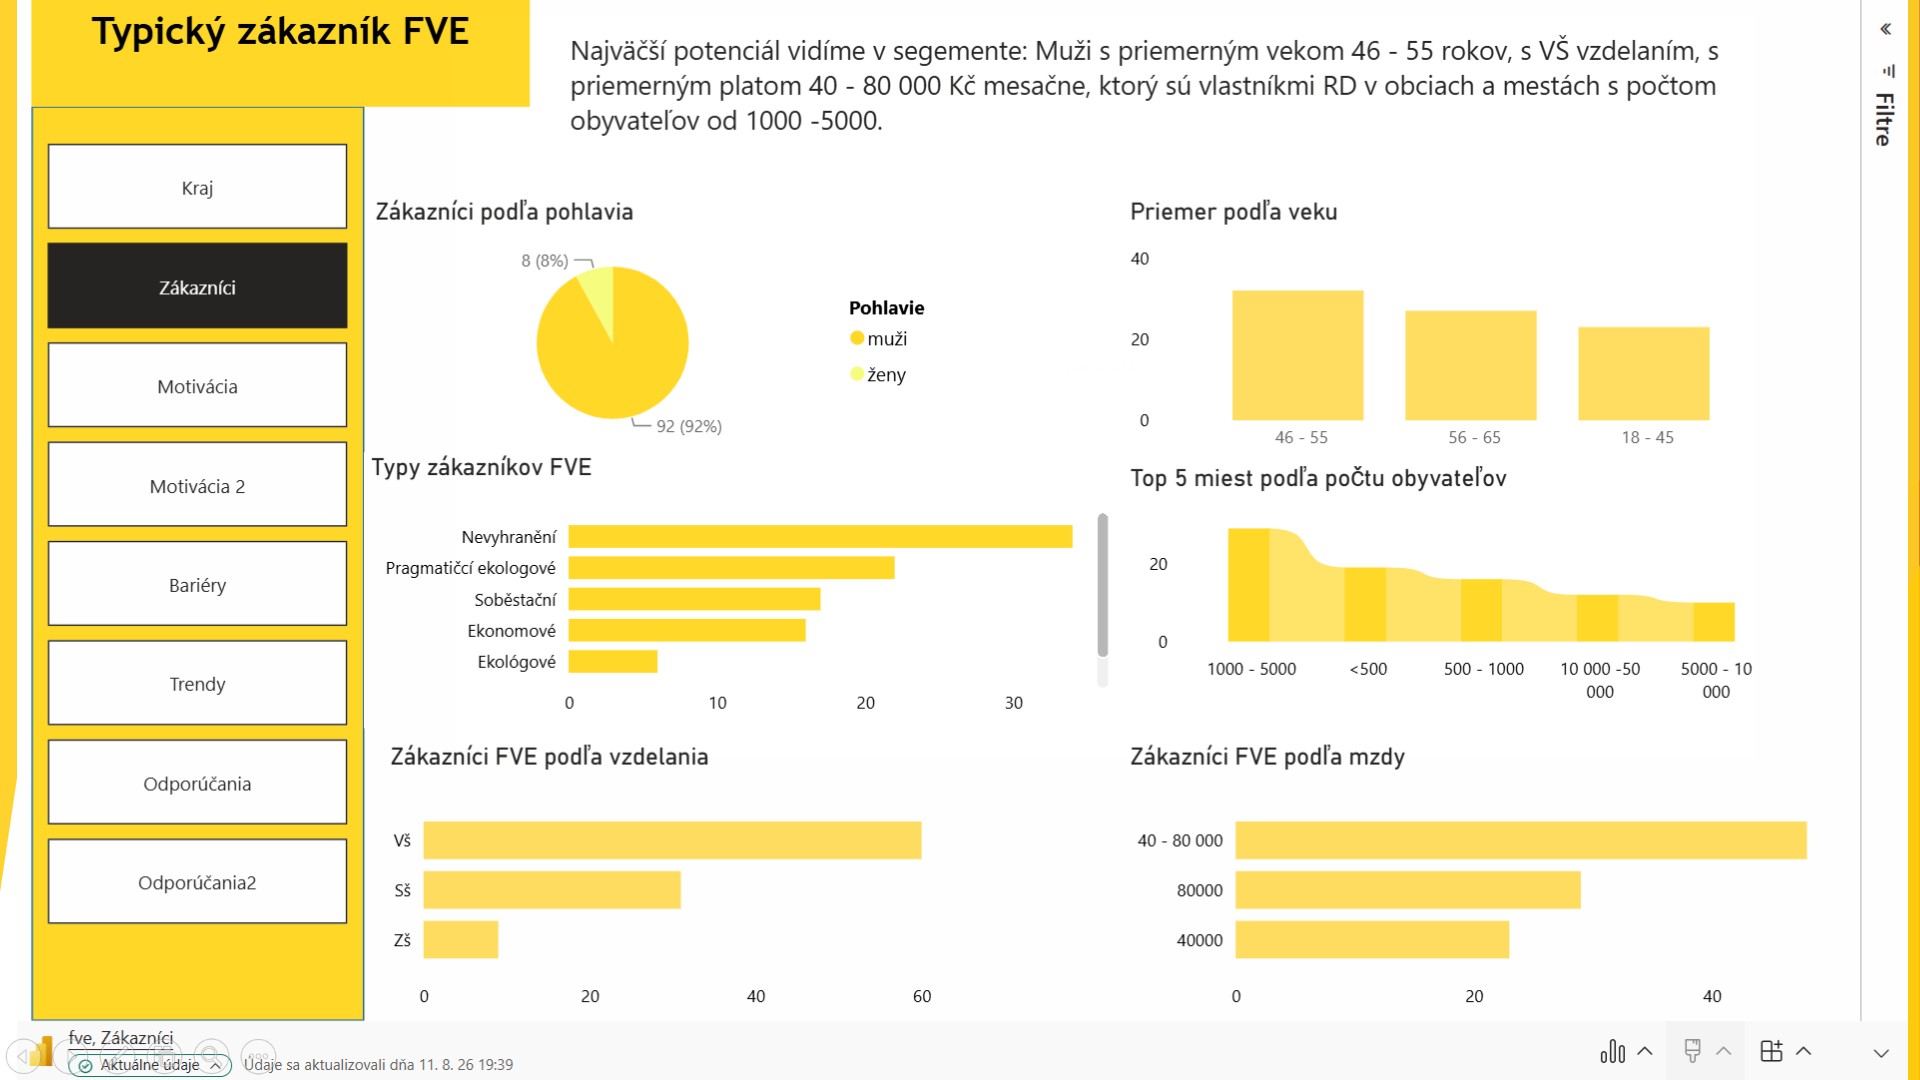

Layout of this report page (visuals, bound fields, positions):
{"tool":"powerbi","page":{"name":"Zákazníci","canvas":[1280,720],"ordinal":1},"visuals":[{"type":"shape","box":[0,75.1,234.6,644.9],"z":0},{"type":"textbox","box":[0,0,351.3,75.5],"z":1000},{"type":"pieChart","title":"Zákazníci podľa pohlavia","fields":{"Category":["Vzorka.Pohlavie"],"Y":["Sum(Vzorka.Počet %)"]},"box":[237.4,138.6,415.8,177],"z":6000},{"type":"columnChart","title":"Priemer podľa veku","fields":{"Category":["Vek.Vek"],"Y":["Avg(Vek.Počet %)"]},"box":[769.8,138.6,472,188],"z":7000},{"type":"clusteredBarChart","title":"Zákazníci FVE podľa vzdelania","fields":{"Category":["Vzdelanie.Vzdelanie"],"Y":["Sum(Vzdelanie.Počet %)"]},"box":[248.4,522.8,391.1,197.6],"z":8000},{"type":"clusteredBarChart","title":"Zákazníci FVE podľa mzdy","fields":{"Category":["Príjem.Příjem"],"Y":["Sum(Príjem.Počet %)"]},"box":[769.8,522.8,510.5,197.6],"z":9000},{"type":"clusteredBarChart","title":"Typy zákazníkov FVE","fields":{"Category":["ZakazniciFVE.Zákazníci"],"Y":["Sum(ZakazniciFVE.Počet %)"]},"box":[234.6,318.4,529.7,194.9],"z":10000},{"type":"ribbonChart","title":"Top 5 miest podľa počtu obyvateľov","fields":{"Category":["Mesta.Počet obyvateľov"],"Y":["Sum(Mesta.Počet %)"]},"box":[769.8,326.6,472,177],"z":11000},{"type":"textbox","box":[374.6,16.5,905.7,116.6],"z":13000},{"type":"pageNavigator","box":[11.4,101.4,211.4,551.4],"z":13001}]}

Visuals, with their boxes on the page's 1280x720 design canvas (x1, y1, x2, y2). These are canvas units, not pixel positions in the 1920x1080 screenshot, which may show the page scaled, cropped or inside an application window:
shape: region(0, 75, 235, 720)
textbox: region(0, 0, 351, 76)
"Zákazníci podľa pohlavia" pieChart: region(237, 139, 653, 316)
"Priemer podľa veku" columnChart: region(770, 139, 1242, 327)
"Zákazníci FVE podľa vzdelania" clusteredBarChart: region(248, 523, 640, 720)
"Zákazníci FVE podľa mzdy" clusteredBarChart: region(770, 523, 1280, 720)
"Typy zákazníkov FVE" clusteredBarChart: region(235, 318, 764, 513)
"Top 5 miest podľa počtu obyvateľov" ribbonChart: region(770, 327, 1242, 504)
textbox: region(375, 16, 1280, 133)
pageNavigator: region(11, 101, 223, 653)
